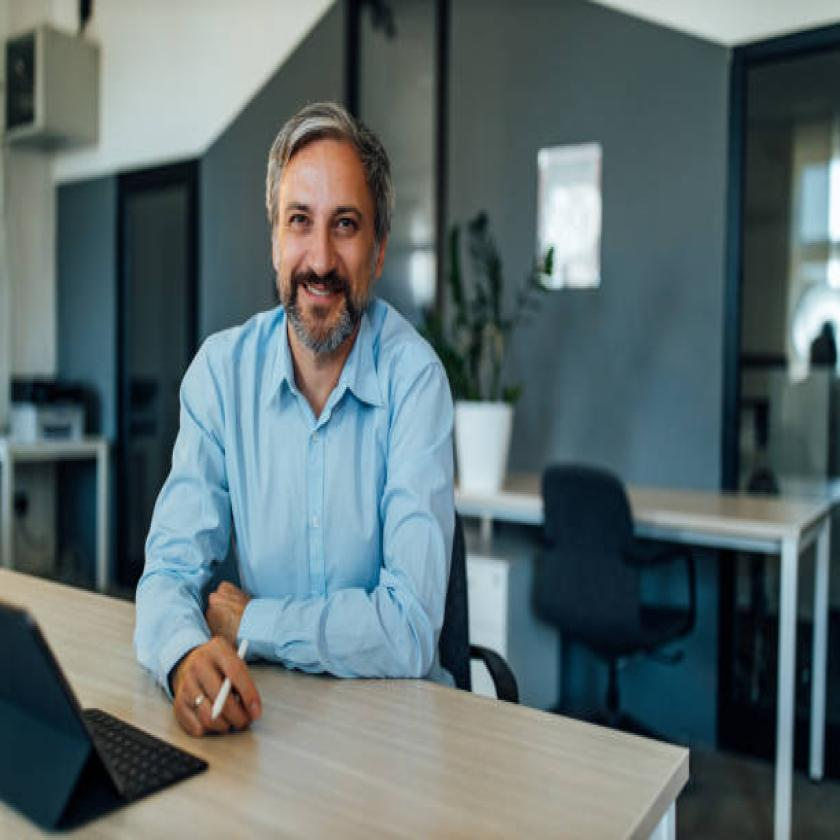Sin_casco: (258, 98, 394, 367)
